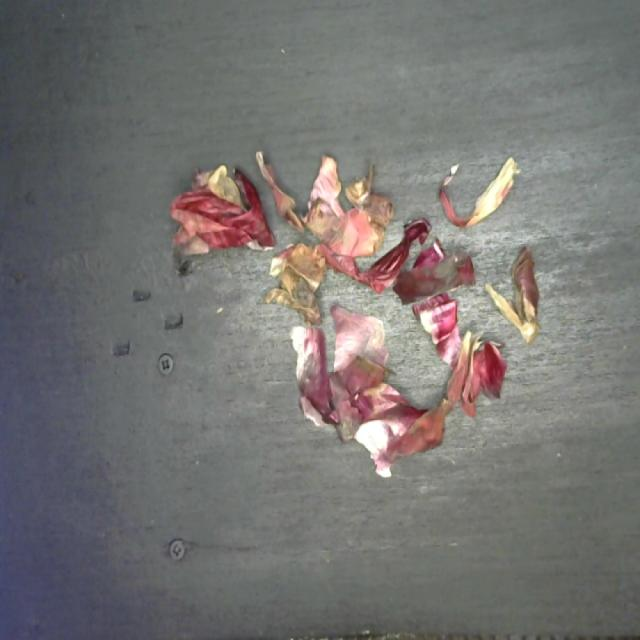biodegradable: (169, 143, 543, 484)
